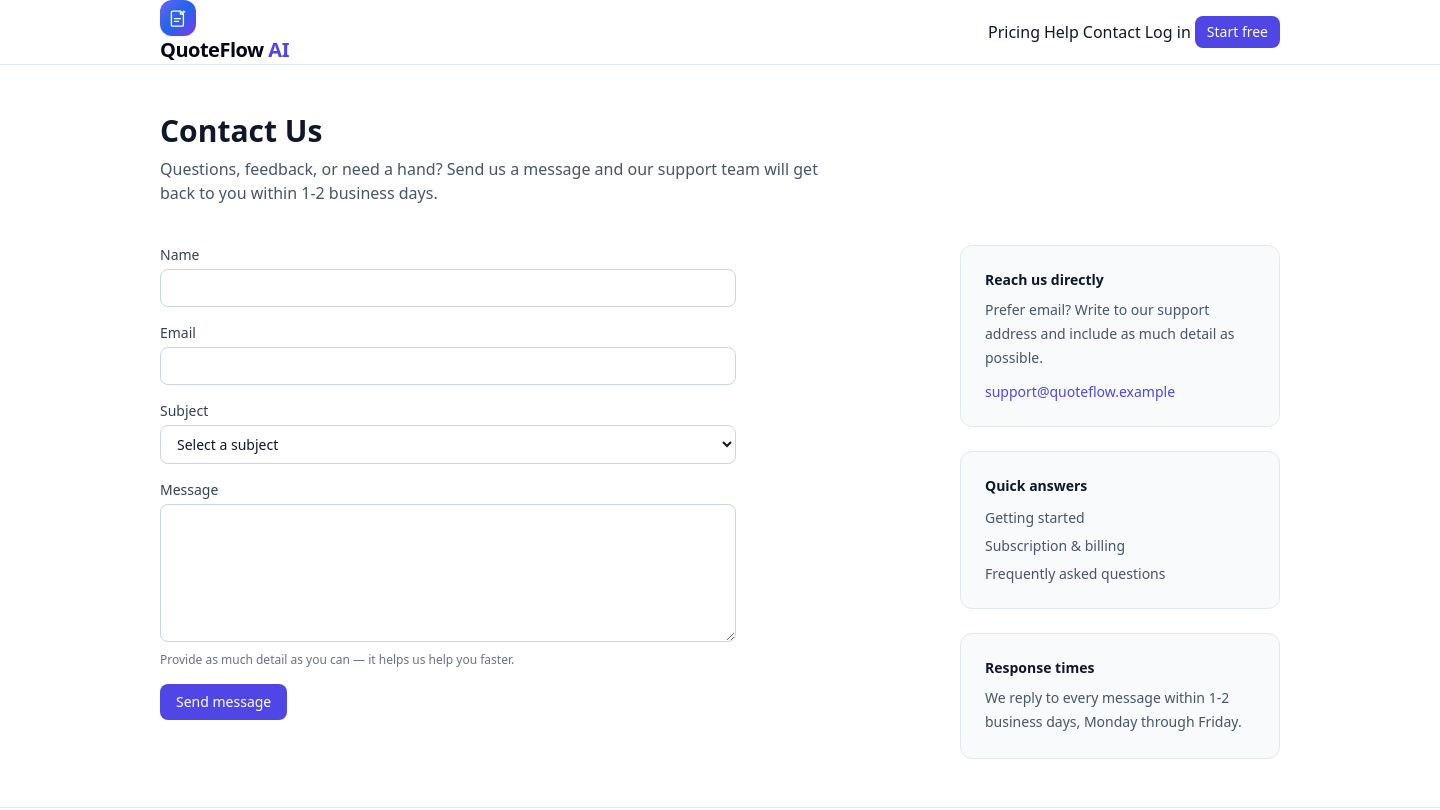
Test: contact page › surfaces API errors without crashing
Type "Jane Customer" into the field labelled "Name" at (448, 288), box [160, 269, 736, 307]
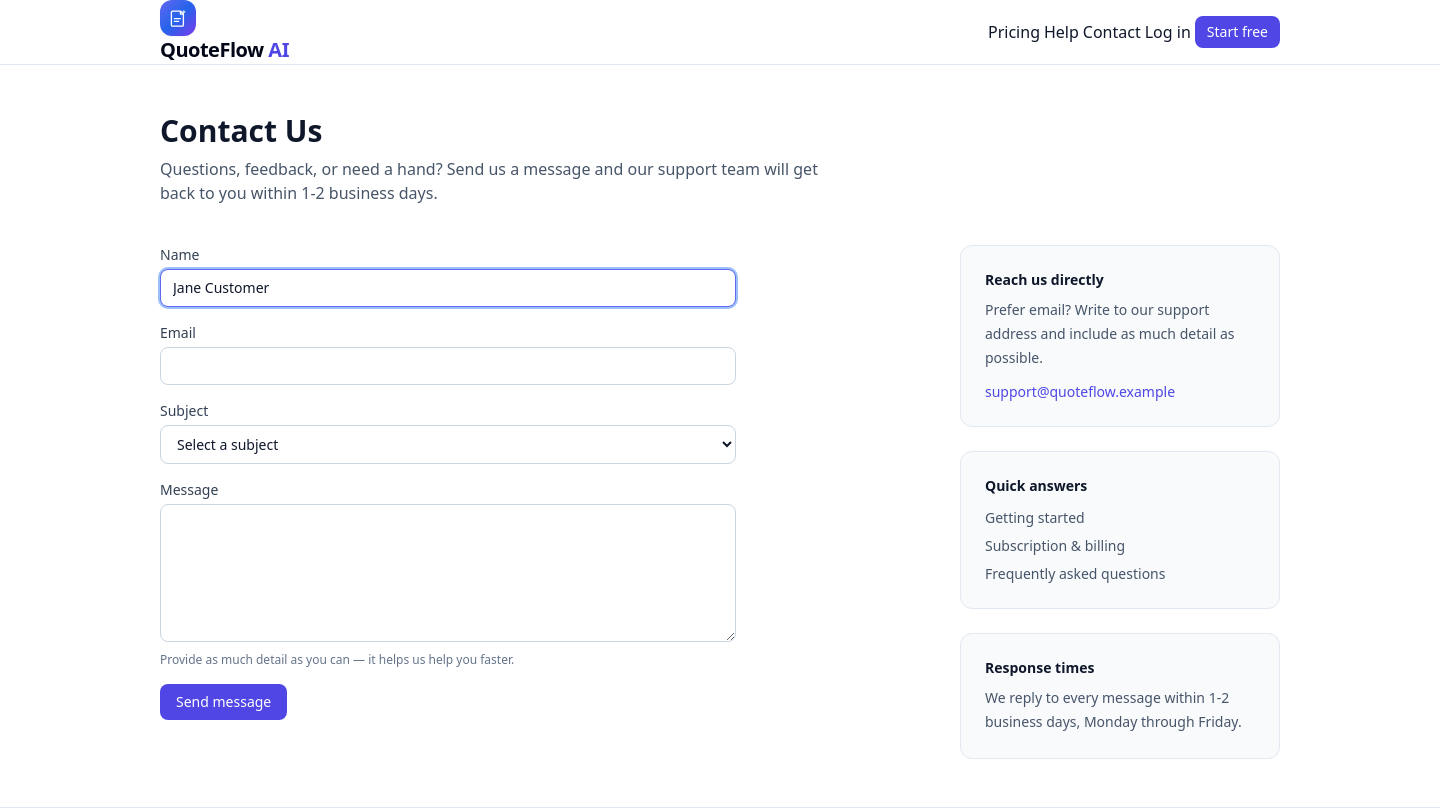
Type "jane@example.com" into the field labelled "Email" at (448, 366), box [160, 347, 736, 385]
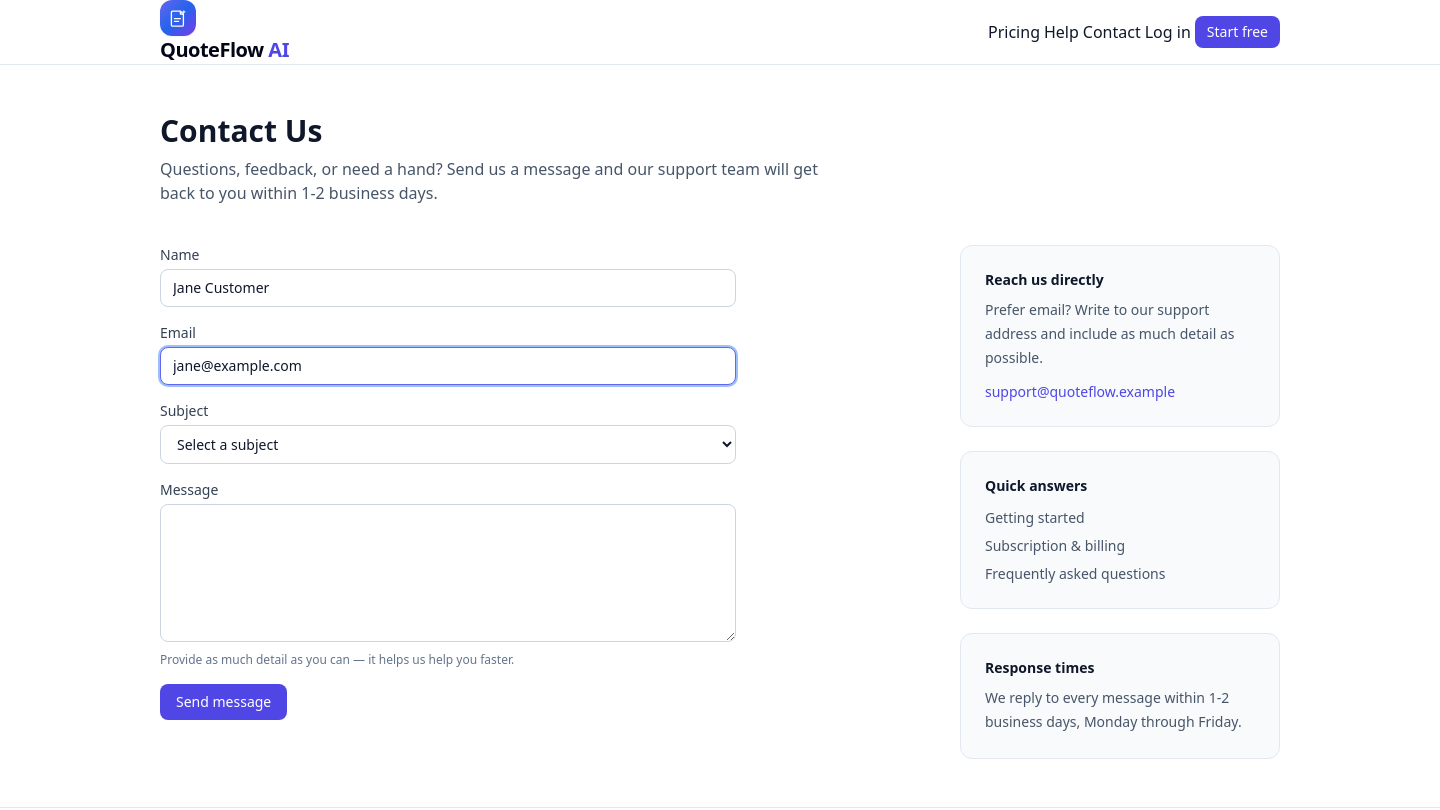
Select "Subscription & billing" in the dropdown labelled "Subject" at (448, 444), box [160, 425, 736, 464]
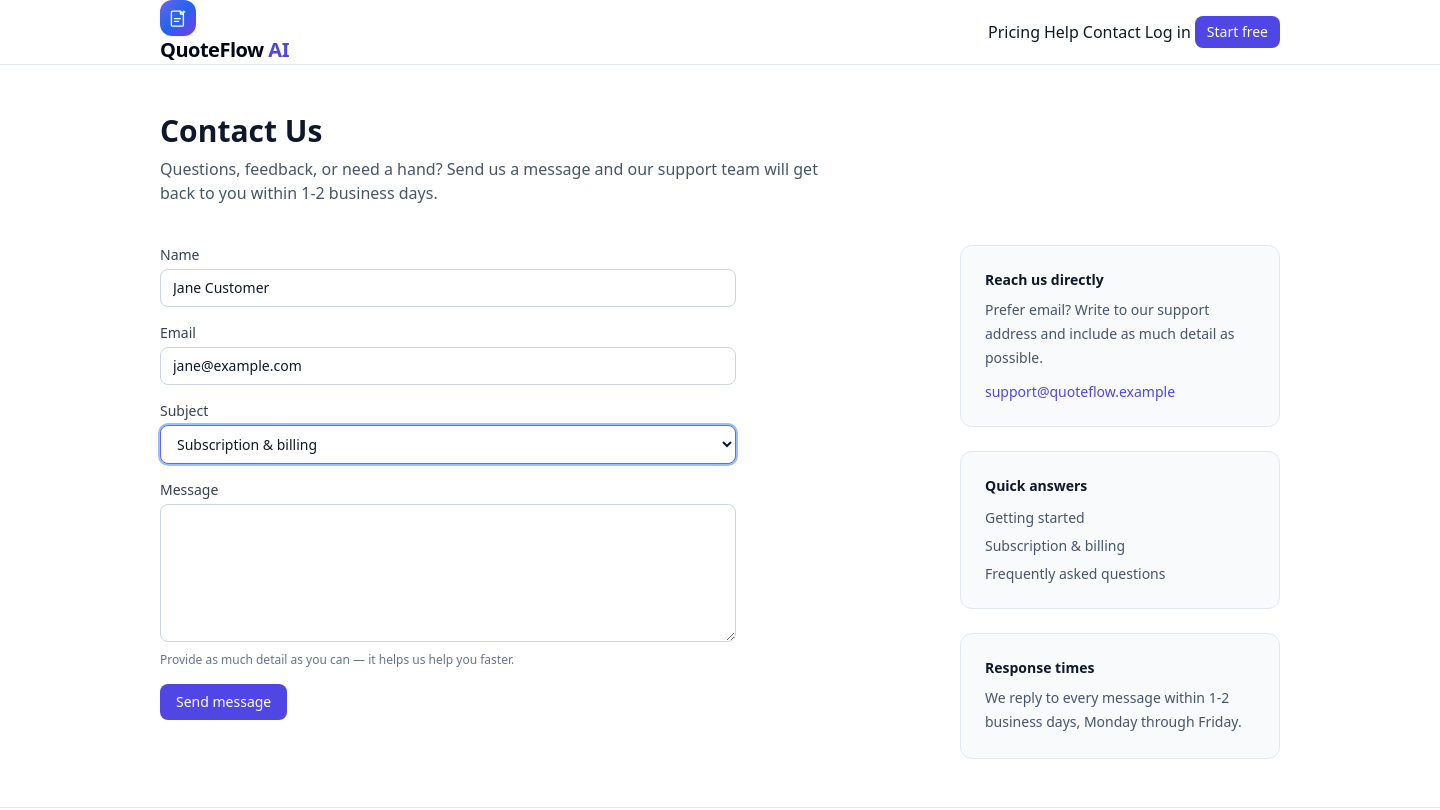
Type "My card was charged twice last month. Please help." into the text box labelled "Message" at (448, 573), box [160, 504, 736, 642]
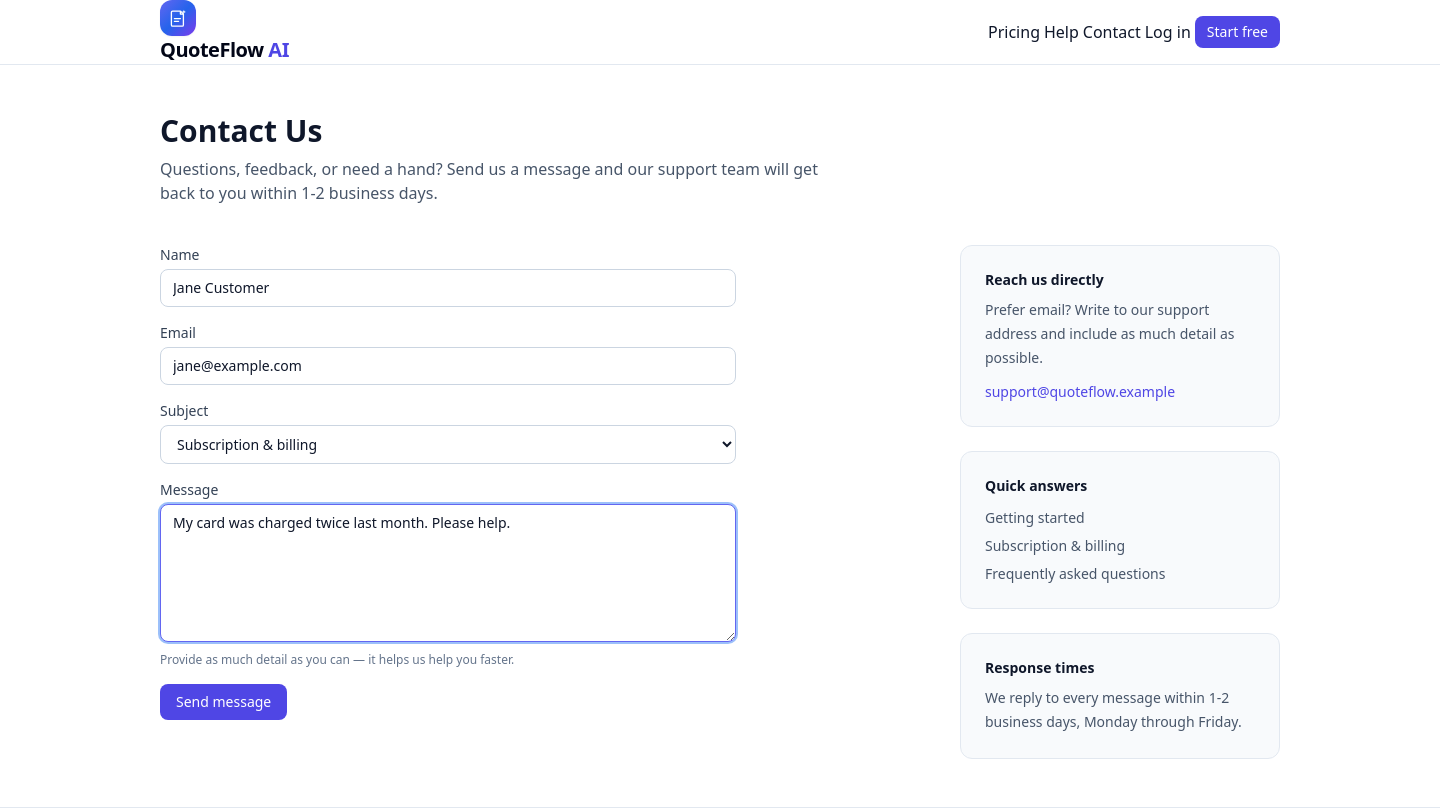
Click the button "Send message" at (224, 702), box [160, 684, 287, 720]
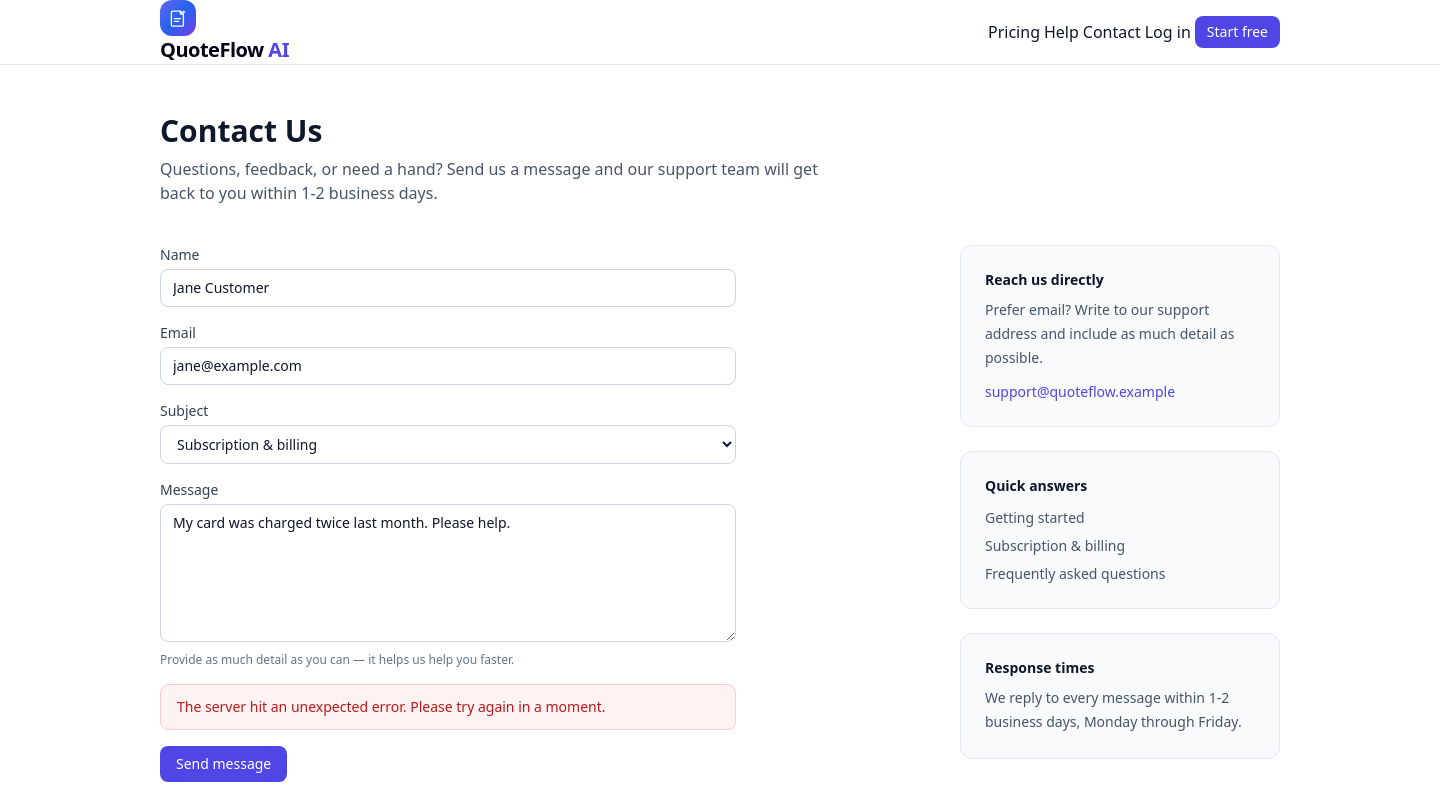
Expected: the text "The server hit an unexpected error. Please try again in a moment." is shown, [160, 684, 736, 730]
